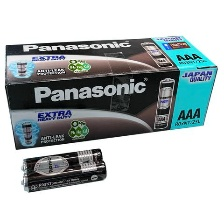battery: (18, 160, 108, 195), (20, 148, 105, 176)
book: (3, 31, 221, 151)
